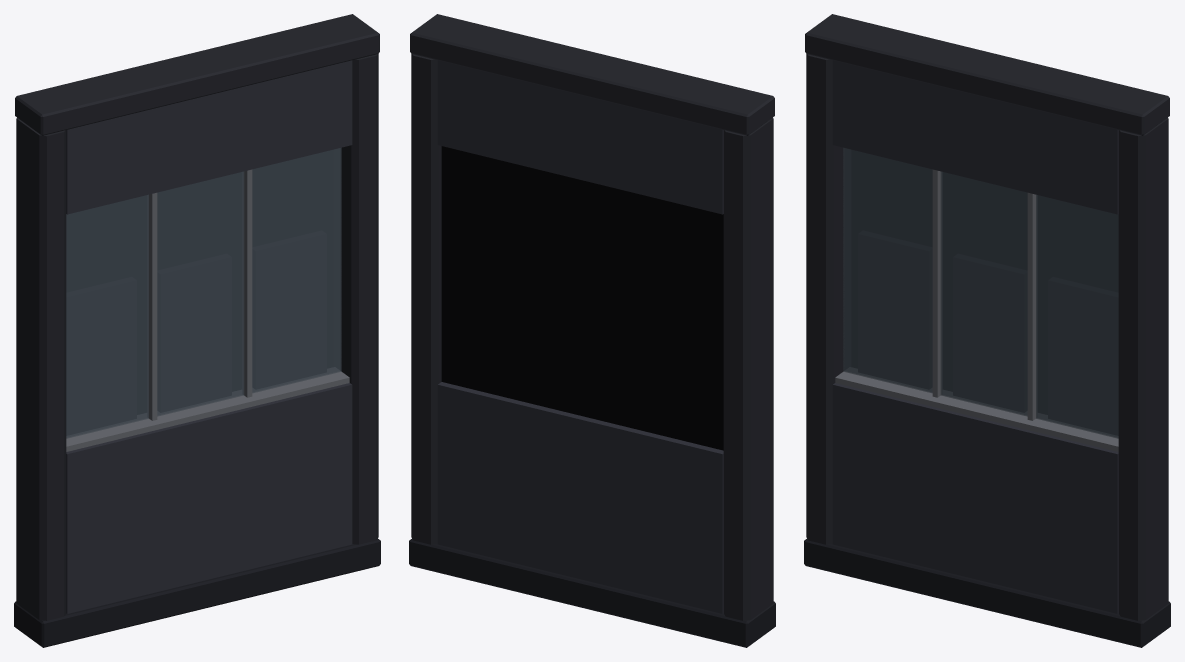
The model's file is mrd_env_back_wall_b.glb.
3 renders of one model, left to right at view 1: azimuth 30°, elevation 25°; view 2: azimuth 150°, elevation 25°; view 3: azimuth 330°, elevation 25°, orthographic.
Visible parts, largest first — view 1: mesh_intact; view 2: mesh_intact; view 3: mesh_intact.
Boxes of the visible parts, x1=… form: mesh_intact: x1=14, y1=14, x2=380, y2=647; mesh_intact: x1=409, y1=14, x2=775, y2=647; mesh_intact: x1=804, y1=14, x2=1170, y2=647.
Size of the model in its own units: 4 by 6 by 0.6.
